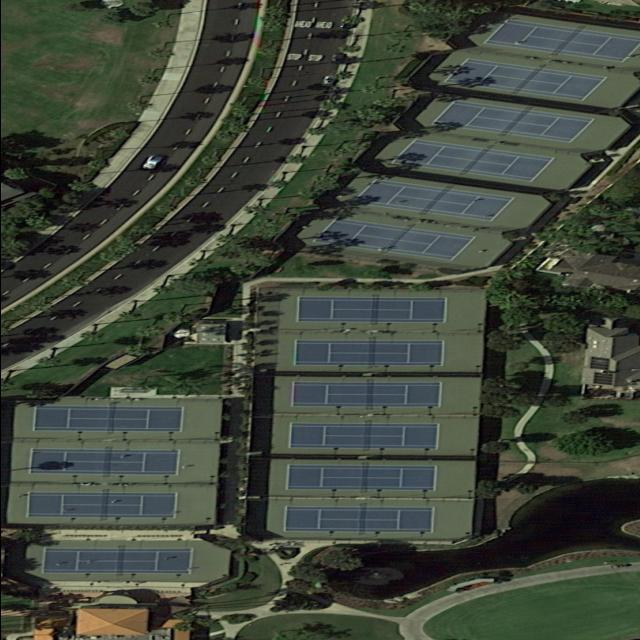small-vehicle: (137, 154, 168, 170)
